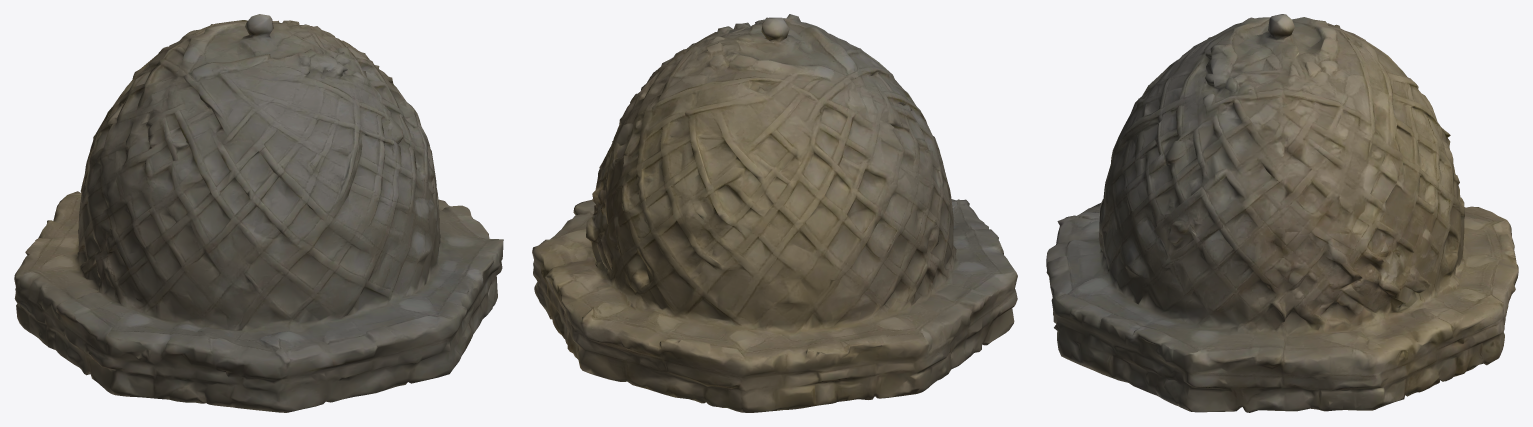
File: dome.glb
The picture shows the model from 3 angles, left to right: view 1: azimuth 30°, elevation 25°; view 2: azimuth 150°, elevation 25°; view 3: azimuth 270°, elevation 25°; orthographic projection.
Visible parts, largest first — view 1: tripo_node_a1ed7e49-a36b-4767-a613-b47e0e10af86; view 2: tripo_node_a1ed7e49-a36b-4767-a613-b47e0e10af86; view 3: tripo_node_a1ed7e49-a36b-4767-a613-b47e0e10af86.
Boxes of the visible parts, x1,y1,x2,y2 form: tripo_node_a1ed7e49-a36b-4767-a613-b47e0e10af86: [14, 14, 503, 412]; tripo_node_a1ed7e49-a36b-4767-a613-b47e0e10af86: [532, 14, 1017, 412]; tripo_node_a1ed7e49-a36b-4767-a613-b47e0e10af86: [1046, 14, 1518, 412].
Size of the model in its own units: 1 by 0.7033 by 0.9884.
1 material, 1 textured.
